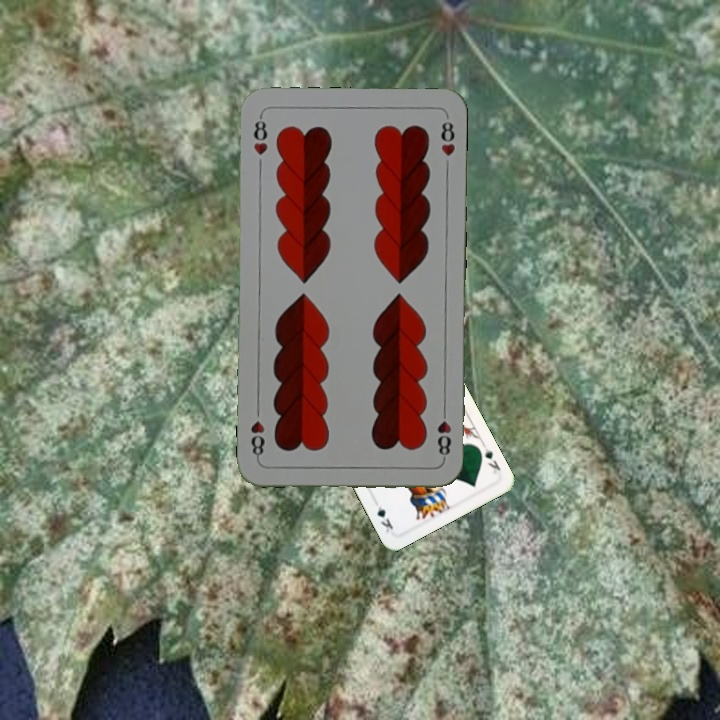GK: (478, 440, 503, 478)
H8: (433, 403, 453, 462), (250, 112, 271, 158)
